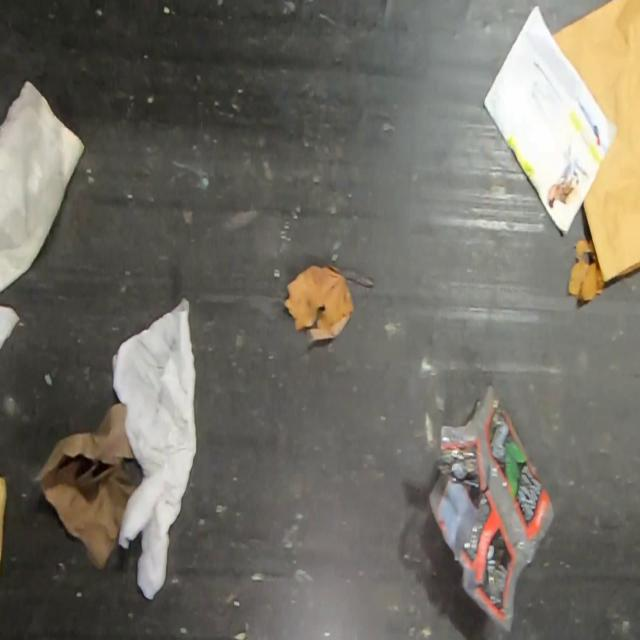soft_plastic: (425, 382, 559, 634)
